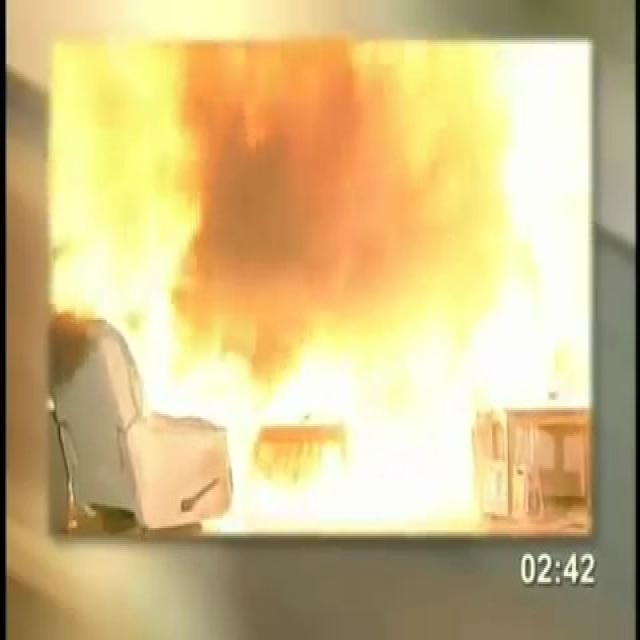Fire: (40, 31, 598, 544)
